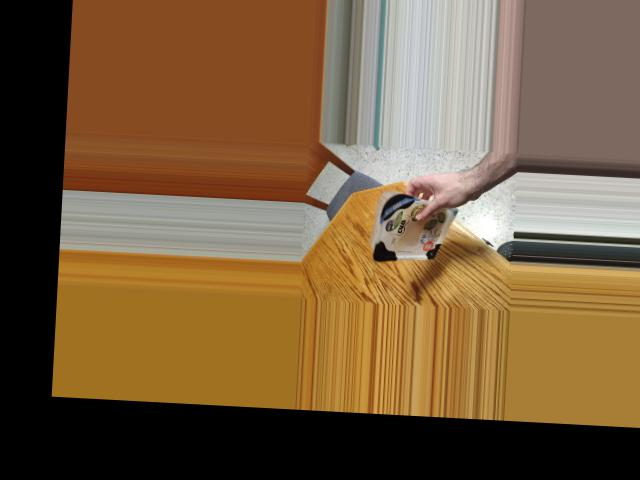cheese: (365, 188, 443, 260)
